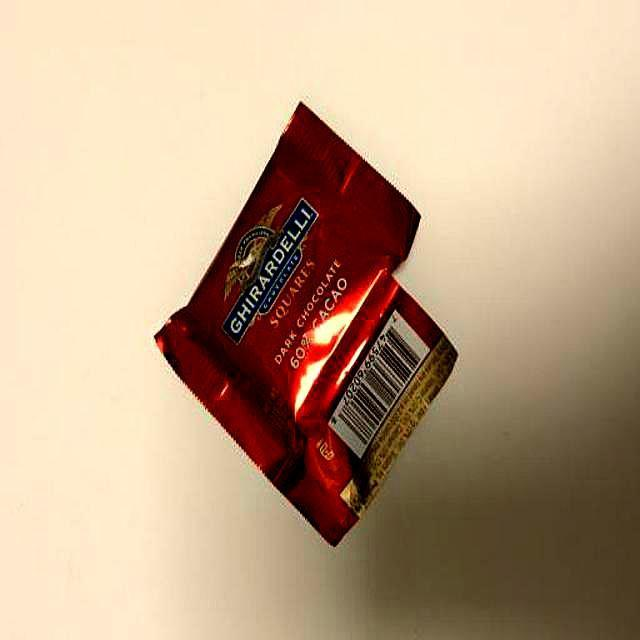Non-biodegradable: (153, 100, 461, 549)
